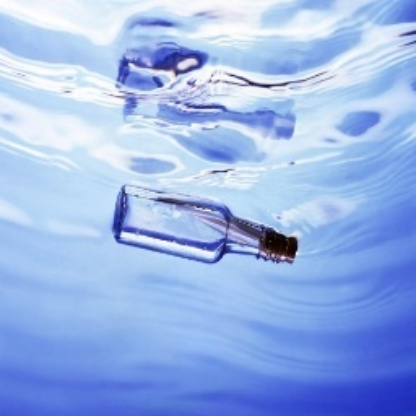bottle: (112, 181, 301, 270)
